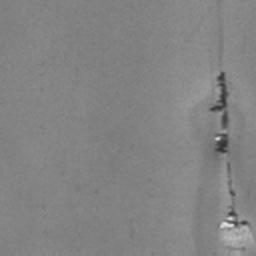Slag inclusion: (209, 0, 255, 251)
